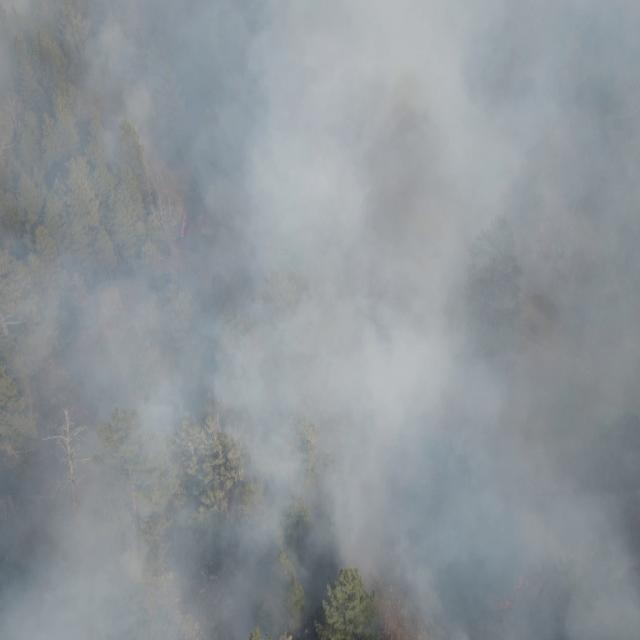fire: (497, 594, 522, 614), (514, 572, 533, 592), (178, 209, 188, 242)
smoke: (0, 0, 640, 640)
